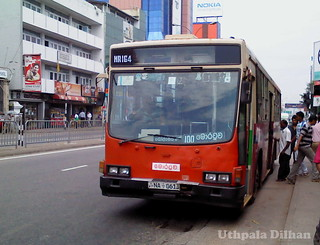bus: (99, 38, 281, 212)
